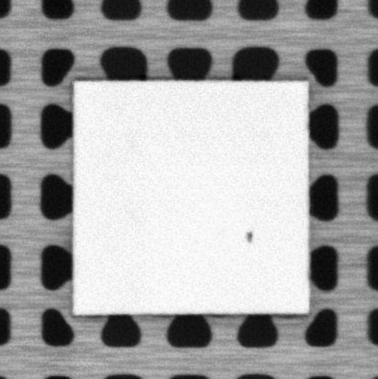DIE_INK: (244, 228, 253, 244)
